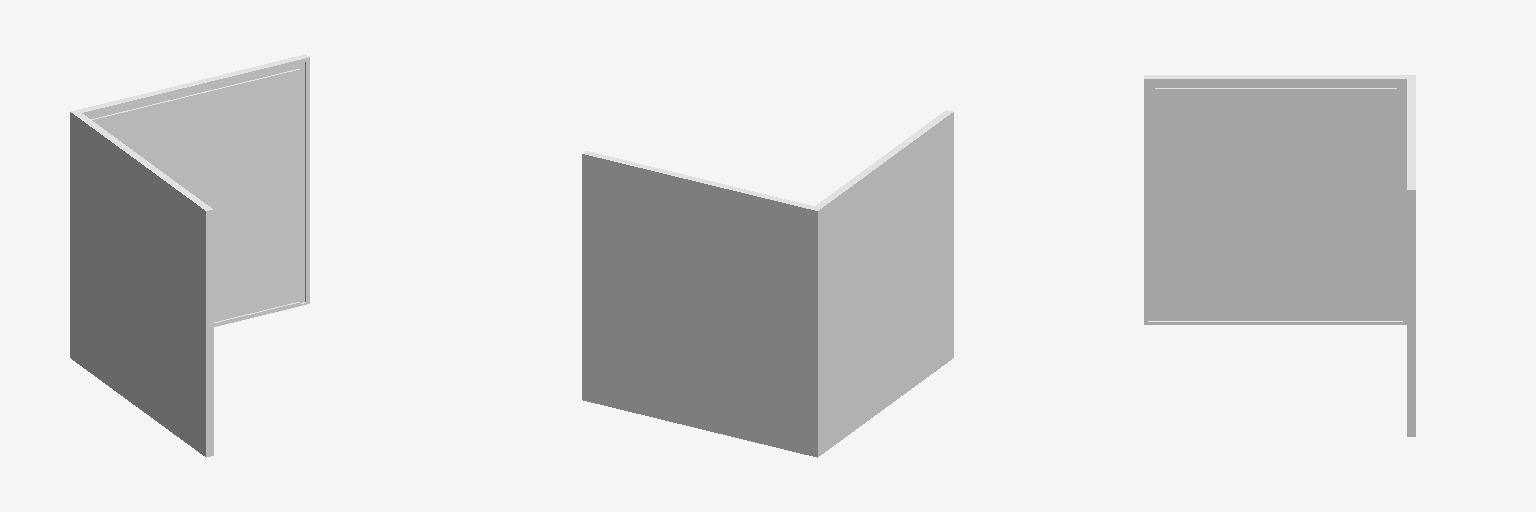
The model's file is WallCornerTile.obj.
3 views of the same model, side by side, from view 1: azimuth 30°, elevation 25°; view 2: azimuth 150°, elevation 25°; view 3: azimuth 270°, elevation 25° (orthographic).
Visible parts, largest first — view 1: object 1; view 2: object 1; view 3: object 1.
Part boxes in pixels (x1,y1,x2,y2): object 1: (70,54,309,457); object 1: (582,110,953,457); object 1: (1144,75,1415,436).
Size of the model in its own units: 12.8 by 12.8 by 12.8.